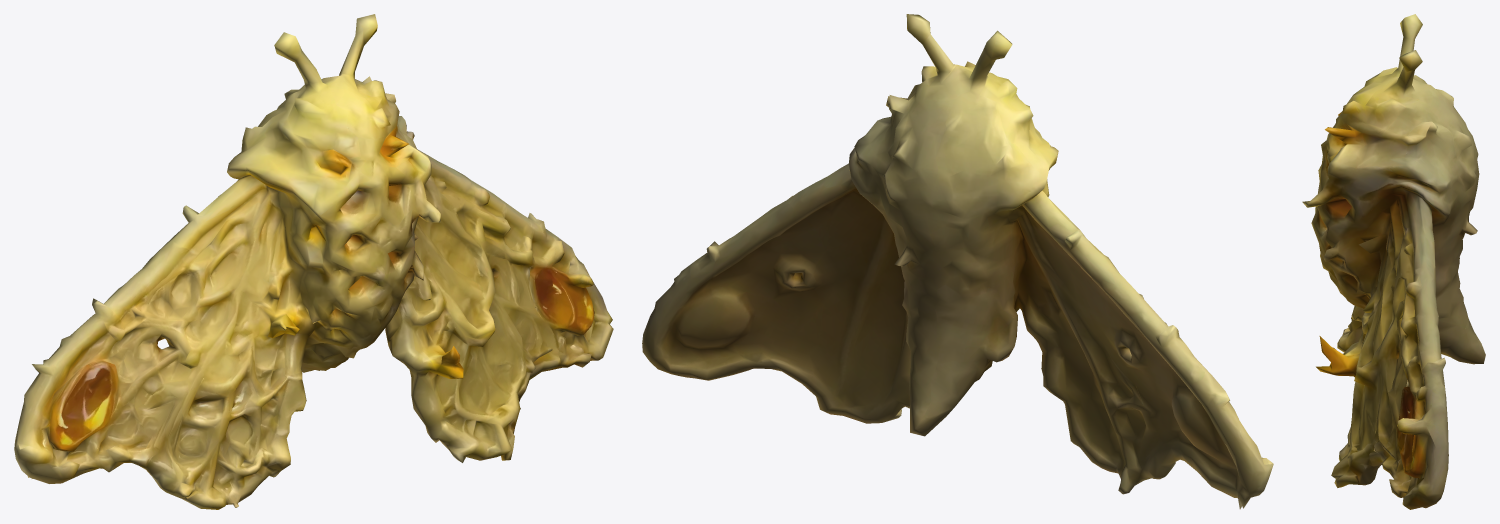
File: foe_moth.glb
3 views of the same model, side by side, from view 1: azimuth 30°, elevation 25°; view 2: azimuth 150°, elevation 25°; view 3: azimuth 270°, elevation 25° (orthographic). The views are drawn at different scales.
Parts seen in each view (by area): view 1: tripo_node_03d3ed9b-5c93-40c7-b05a-3fed9ff7a0a0; view 2: tripo_node_03d3ed9b-5c93-40c7-b05a-3fed9ff7a0a0; view 3: tripo_node_03d3ed9b-5c93-40c7-b05a-3fed9ff7a0a0.
Part boxes in pixels (x1,y1,x2,y2): tripo_node_03d3ed9b-5c93-40c7-b05a-3fed9ff7a0a0: [14, 14, 613, 509]; tripo_node_03d3ed9b-5c93-40c7-b05a-3fed9ff7a0a0: [642, 14, 1273, 509]; tripo_node_03d3ed9b-5c93-40c7-b05a-3fed9ff7a0a0: [1302, 14, 1485, 509].
Bounding box in the file's own units: 0.9814 × 0.6905 × 0.2908.
1 material, 1 textured.
